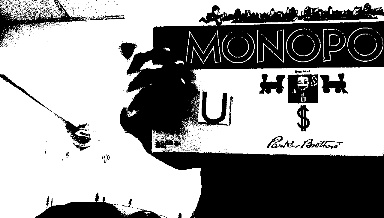U: (199, 91, 228, 122)
